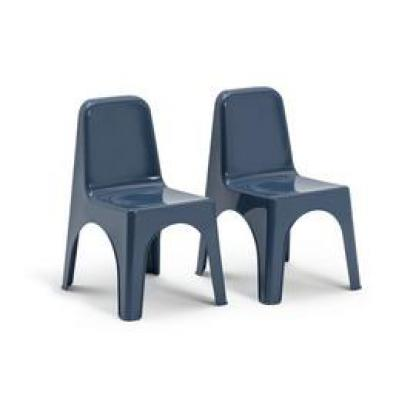chair: (49, 91, 224, 311)
